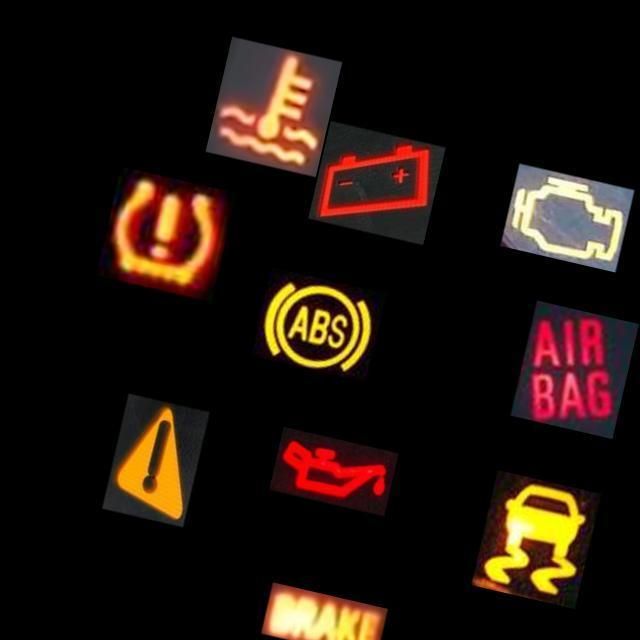Central Warning lamp: (102, 393, 209, 527)
Engine cooling system: (205, 36, 342, 176)
